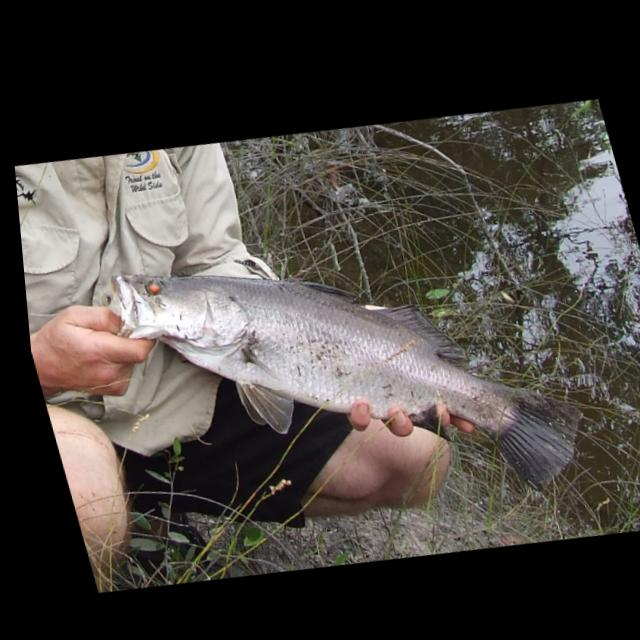Seabass: (95, 194, 610, 569)
